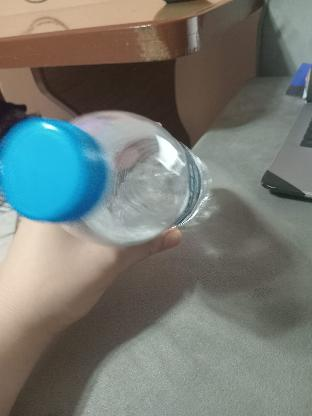Plastic Bottle: (4, 104, 216, 258)
